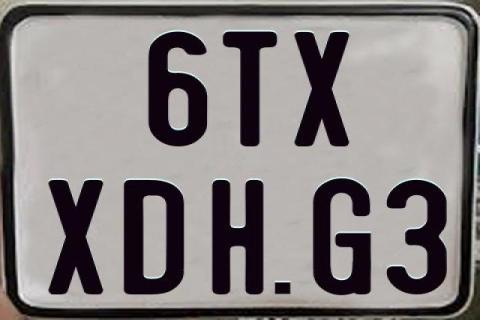0: (386, 180, 450, 299), (147, 31, 208, 148)
D: (123, 179, 189, 297)
G: (312, 177, 375, 296)
H: (212, 179, 264, 295)
T: (223, 31, 278, 147)
X: (292, 32, 351, 150), (47, 180, 106, 294)
